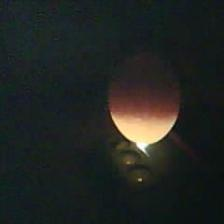fertile: (108, 50, 182, 144)
